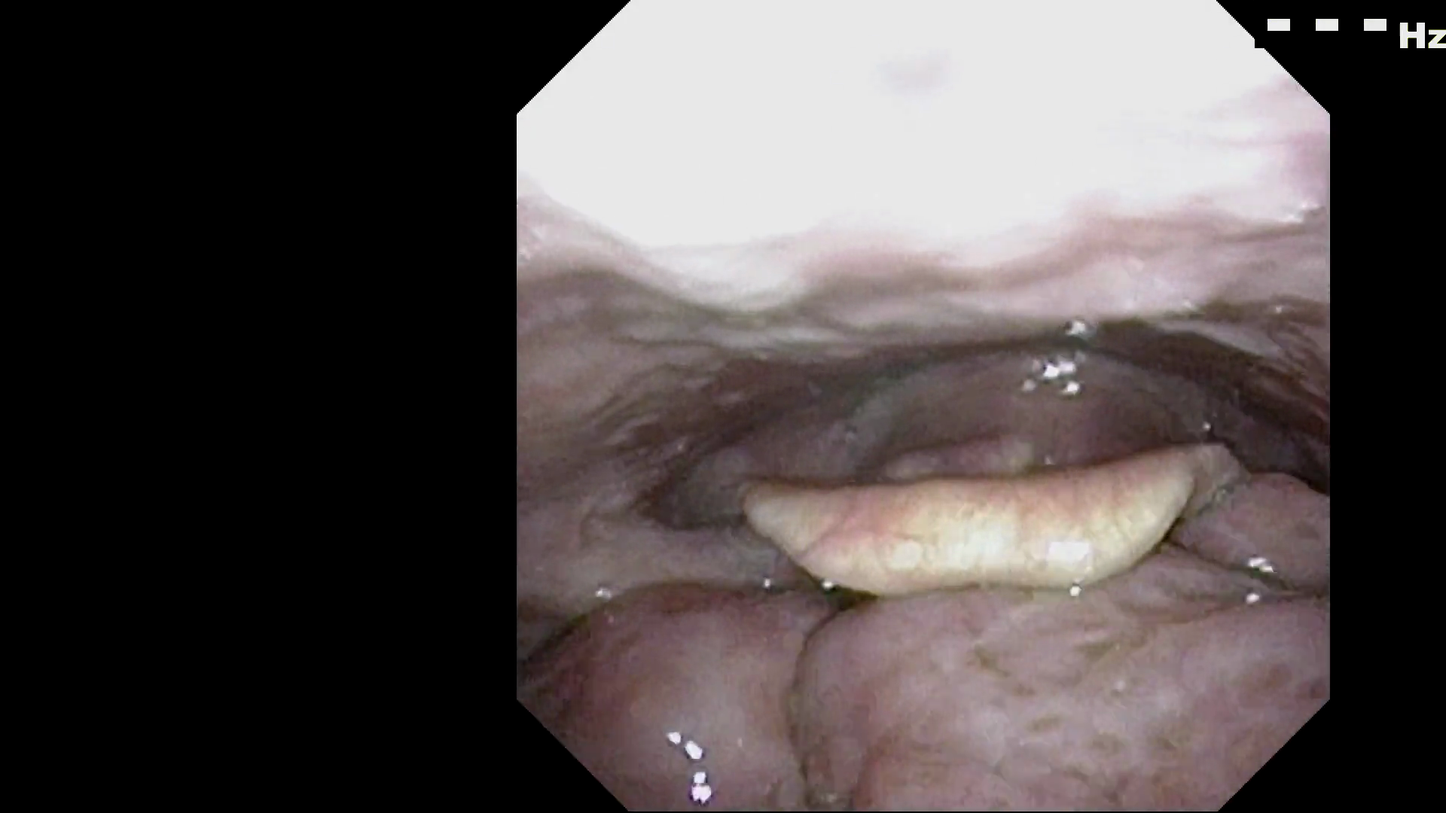epiglottis: (718, 469, 1260, 608)
